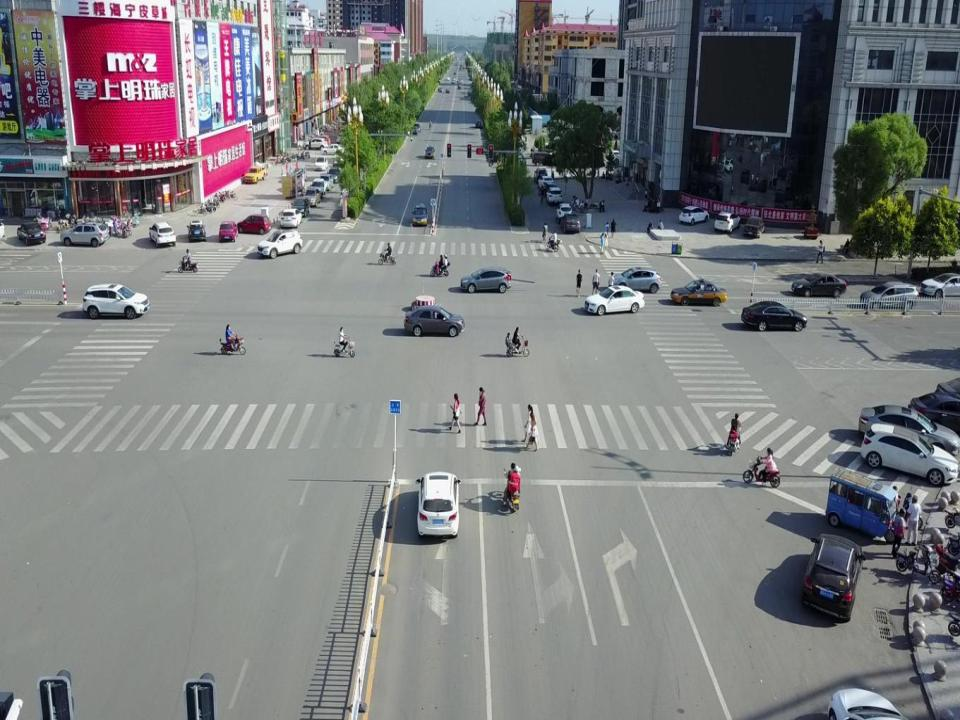car: (860, 422, 958, 484), (857, 404, 959, 462), (800, 529, 865, 620), (413, 472, 461, 541), (829, 686, 918, 720), (80, 283, 150, 320), (740, 299, 808, 334), (402, 302, 462, 340), (583, 283, 647, 316), (908, 388, 960, 424), (669, 276, 727, 308), (895, 543, 940, 582), (458, 264, 513, 292), (859, 280, 918, 306), (611, 264, 662, 294), (791, 269, 847, 295), (256, 230, 303, 258), (920, 271, 960, 298), (934, 544, 960, 578), (934, 375, 960, 406), (149, 220, 176, 248), (676, 204, 709, 225), (239, 213, 269, 233), (712, 211, 739, 233), (410, 198, 431, 226), (741, 215, 765, 238), (184, 218, 206, 243), (277, 205, 302, 227), (216, 220, 238, 244), (560, 212, 580, 235), (289, 198, 309, 218), (554, 202, 574, 222), (298, 187, 318, 206), (305, 177, 325, 196), (312, 172, 332, 191), (323, 166, 343, 184), (546, 185, 564, 204), (321, 143, 346, 155), (540, 173, 556, 191), (532, 167, 548, 185), (303, 137, 326, 148), (306, 135, 329, 145), (313, 156, 327, 170), (424, 144, 435, 159), (335, 133, 348, 143), (407, 124, 417, 136), (411, 122, 420, 131), (474, 118, 482, 128), (444, 88, 450, 94), (438, 86, 443, 93), (463, 90, 467, 98), (456, 83, 461, 89)
truck: (245, 164, 266, 182)
van: (530, 146, 558, 166)
